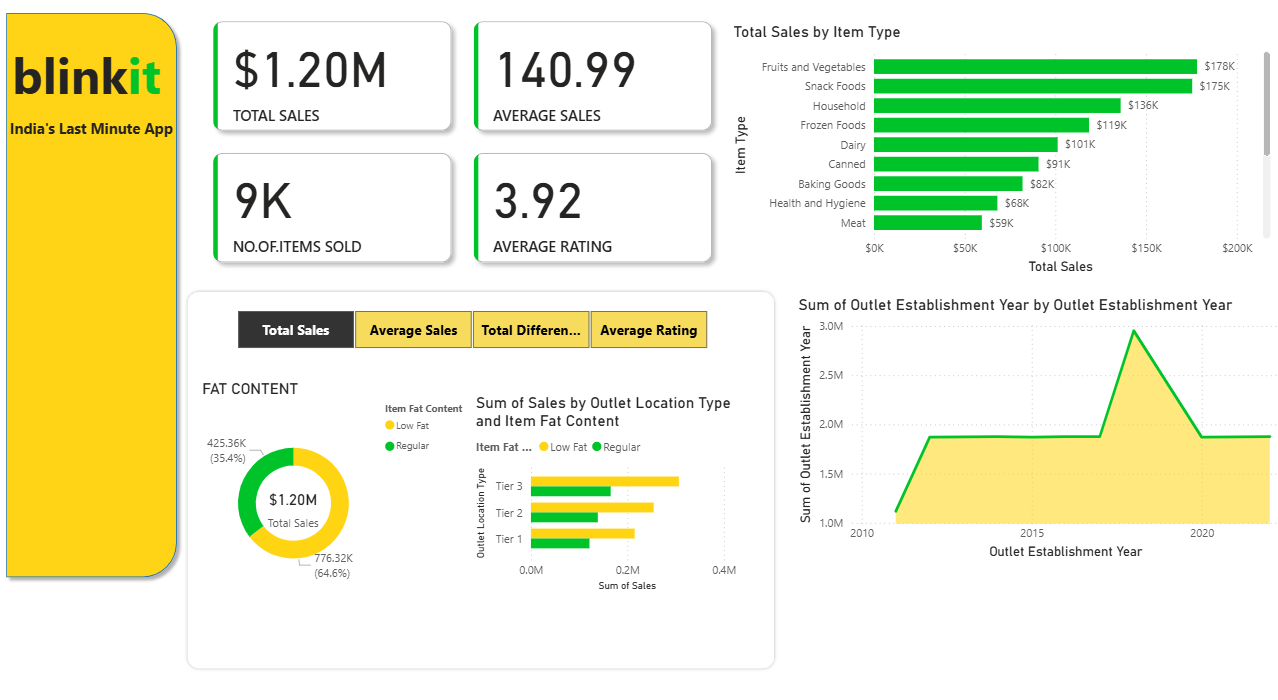

The dashboard page shown, as its layout file describes it:
{"tool":"powerbi","page":{"name":"Page 1","canvas":[1400,800],"ordinal":0},"visuals":[{"type":"shape","box":[0,20.4,201.1,629.1],"z":0},{"type":"textbox","box":[9.5,54.3,191.6,82.9],"z":1000},{"type":"textbox","box":[6.8,137.2,187.5,55.7],"z":2000},{"type":"cardVisual","fields":{"Data":["BlinkIT Grocery Data.Total Sales","BlinkIT Grocery Data.Average Sales","BlinkIT Grocery Data.Total Different Sold","BlinkIT Grocery Data.Average Rating"]},"box":[216,20.4,577.4,296.2],"z":3000},{"type":"shape","box":[201.1,327.4,645.4,417.1],"z":4000},{"type":"donutChart","title":"FAT CONTENT","fields":{"Category":["BlinkIT Grocery Data.Item Fat Content"],"Y":["Sum(BlinkIT Grocery Data.Sales)"]},"box":[216,426.6,308.4,250],"z":5000},{"type":"slicer","fields":{"Values":["Parameter.Parameter"]},"box":[233.7,345.1,559.8,54.3],"z":6000},{"type":"card","fields":{"Values":["BlinkIT Grocery Data.Total Sales"]},"box":[258.2,529.9,123.6,72],"z":7000},{"type":"clusteredBarChart","fields":{"Category":["BlinkIT Grocery Data.Outlet Location Type"],"Y":["Sum(BlinkIT Grocery Data.Sales)"],"Series":["BlinkIT Grocery Data.Item Fat Content"]},"box":[513.6,441.6,293.5,220.1],"z":8000},{"type":"barChart","fields":{"Category":["BlinkIT Grocery Data.Item Type"],"Y":["BlinkIT Grocery Data.Total Sales"]},"box":[793.5,38,593.8,278.5],"z":9000},{"type":"lineChart","fields":{"Category":["BlinkIT Grocery Data.Outlet Establishment Year"],"Y":["Sum(BlinkIT Grocery Data.Outlet Establishment Year)"]},"box":[864.1,335.6,535.3,290.8],"z":10000}]}

Visuals, with their boxes on the page's 1400x800 design canvas (x1, y1, x2, y2). These are canvas units, not pixel positions in the 1278x700 screenshot, which may show the page scaled, cropped or inside an application window:
shape: Rect(0, 20, 201, 650)
textbox: Rect(10, 54, 201, 137)
textbox: Rect(7, 137, 194, 193)
cardVisual - BlinkIT Grocery Data.Total Sales x BlinkIT Grocery Data.Average Sales: Rect(216, 20, 793, 317)
shape: Rect(201, 327, 846, 744)
"FAT CONTENT" donutChart: Rect(216, 427, 524, 677)
slicer - Parameter.Parameter: Rect(234, 345, 794, 399)
card - BlinkIT Grocery Data.Total Sales: Rect(258, 530, 382, 602)
clusteredBarChart - BlinkIT Grocery Data.Outlet Location Type x Sum(BlinkIT Grocery Data.Sales): Rect(514, 442, 807, 662)
barChart - BlinkIT Grocery Data.Item Type x BlinkIT Grocery Data.Total Sales: Rect(794, 38, 1387, 316)
lineChart - BlinkIT Grocery Data.Outlet Establishment Year x Sum(BlinkIT Grocery Data.Outlet Establishment Year): Rect(864, 336, 1399, 626)
